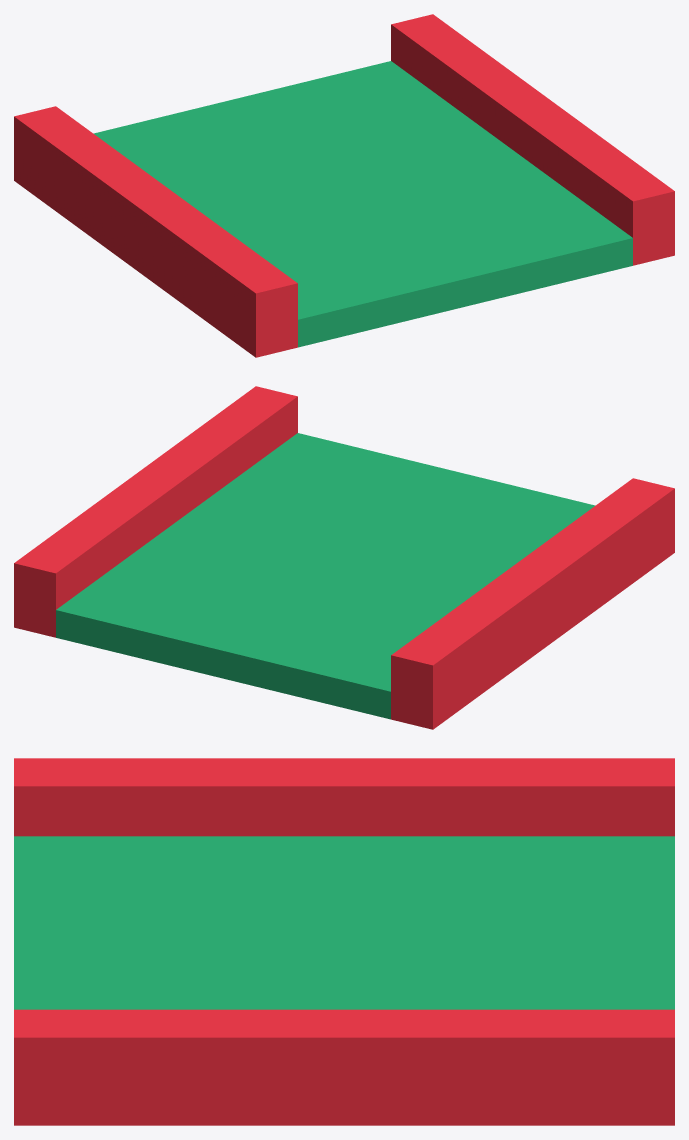
File: straight.fbx
3 views of the same model, one above another, from view 1: azimuth 30°, elevation 25°; view 2: azimuth 150°, elevation 25°; view 3: azimuth 270°, elevation 25° (orthographic). The views are drawn at different scales.
Parts seen in each view (by area): view 1: straight; view 2: straight; view 3: straight.
Part boxes in pixels (left/top/right/bottom): straight: left=14, top=14, right=674, bottom=357; straight: left=14, top=386, right=674, bottom=729; straight: left=14, top=758, right=674, bottom=1125.
Bounding box in the file's own units: 10 × 1.47 × 10.
